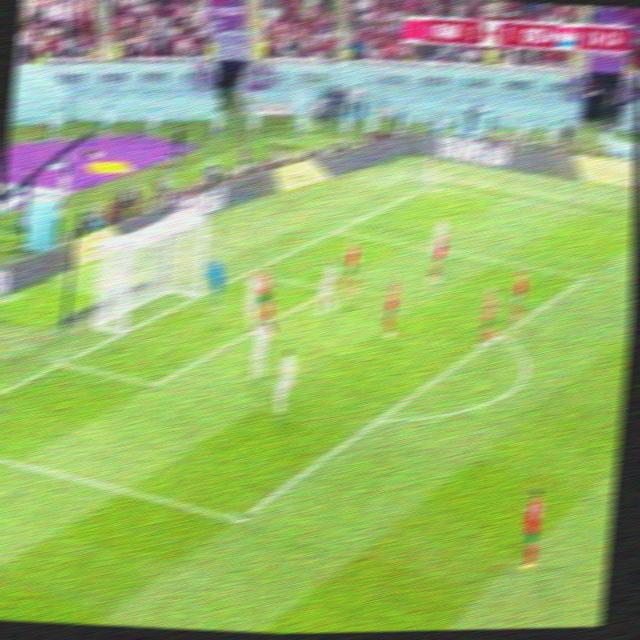bigarea_bottom_inner: (224, 506, 250, 537)
bigarea_top_inner: (574, 263, 597, 291)
bigarea_top_outter: (325, 222, 345, 242)
bottom_arc_area_intersection: (367, 409, 390, 434)
corner: (420, 181, 437, 192)
smallarea_bottom_inner: (142, 373, 169, 399)
smallarea_bottom_outter: (49, 354, 74, 373)
top_arc_area_intersection: (490, 326, 509, 345)
